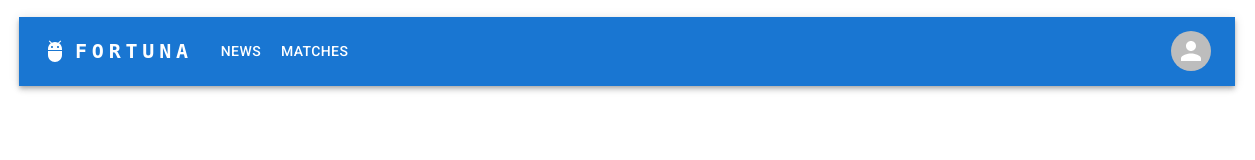
Test case: Navbar › Desktop Navigation › should display profile icon and Login button when clicked
Click the button named "Open Profile Settings" at (1191, 51), box [1171,31,1211,71]
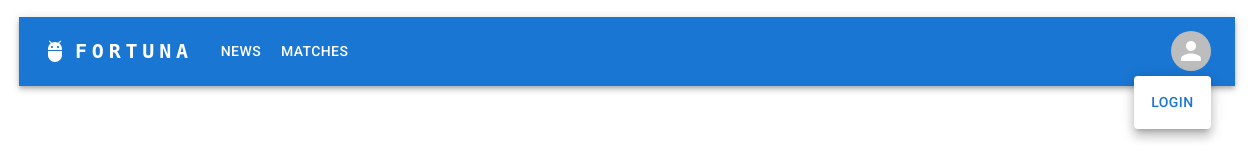
Check: the button "Login" is shown, box [1140,84,1204,120]
